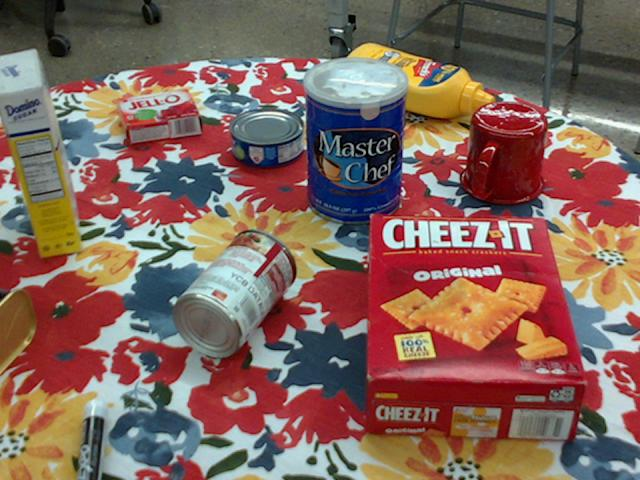cracker_box: (364, 217, 586, 441)
gelatin_box: (117, 91, 200, 146)
large_marker: (73, 398, 107, 479)
master_chef_can: (305, 57, 410, 226)
mug: (460, 102, 549, 206)
mustard_bottle: (339, 43, 494, 118)
potted_meat_can: (0, 287, 35, 370)
sugar_box: (0, 47, 81, 257)
tomato_soup_can: (171, 229, 295, 358)
tuna_fish_can: (229, 109, 304, 168)
